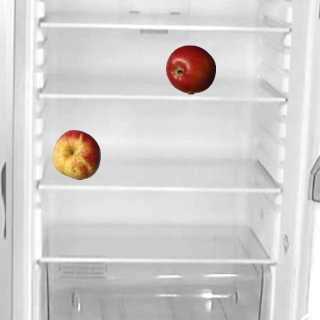Apple Braeburn: (165, 44, 215, 94)
Apple Red Yellow 1: (51, 129, 101, 179)
